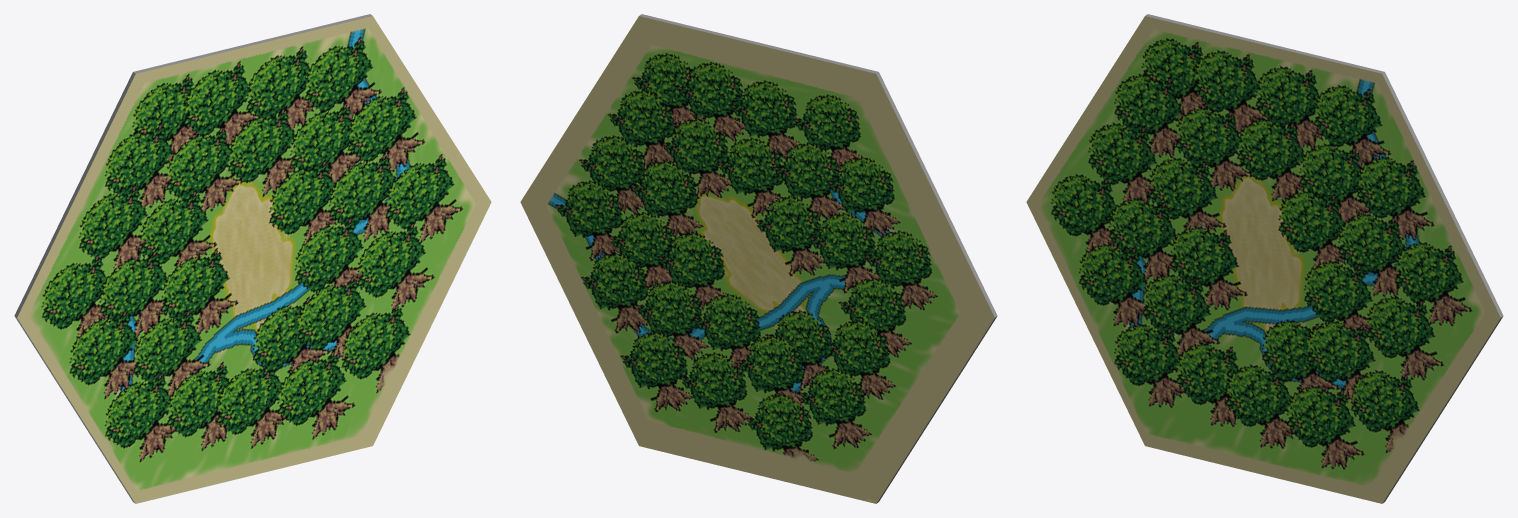
The model's file is Lumber_Map.FBX.
3 renders of one model, left to right at view 1: azimuth 30°, elevation 25°; view 2: azimuth 150°, elevation 25°; view 3: azimuth 330°, elevation 25°, orthographic.
Visible parts, largest first — view 1: Gengon001; view 2: Gengon001; view 3: Gengon001.
Boxes of the visible parts, <box> form: Gengon001: <box>14,14,491,503</box>; Gengon001: <box>520,14,997,503</box>; Gengon001: <box>1026,14,1503,503</box>.
Size of the model in its own units: 20 by 0.2 by 17.32.
3 materials, 2 textured.
